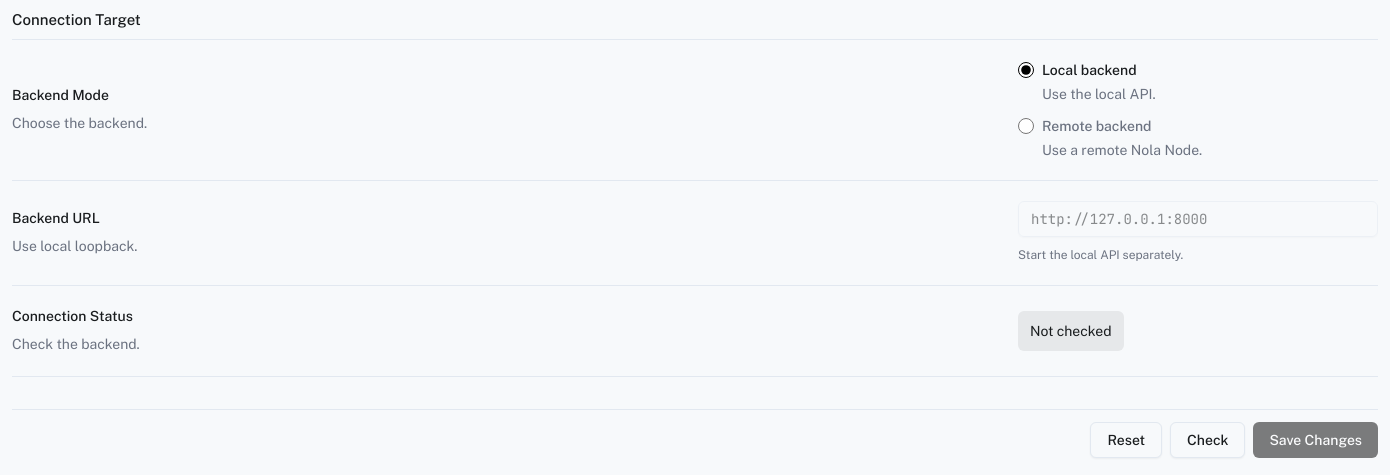
it: ConnectionTab › reports API unavailable when health passes but config fails
Click the button "Check" at [1208, 440], box [1170,422,1245,458]
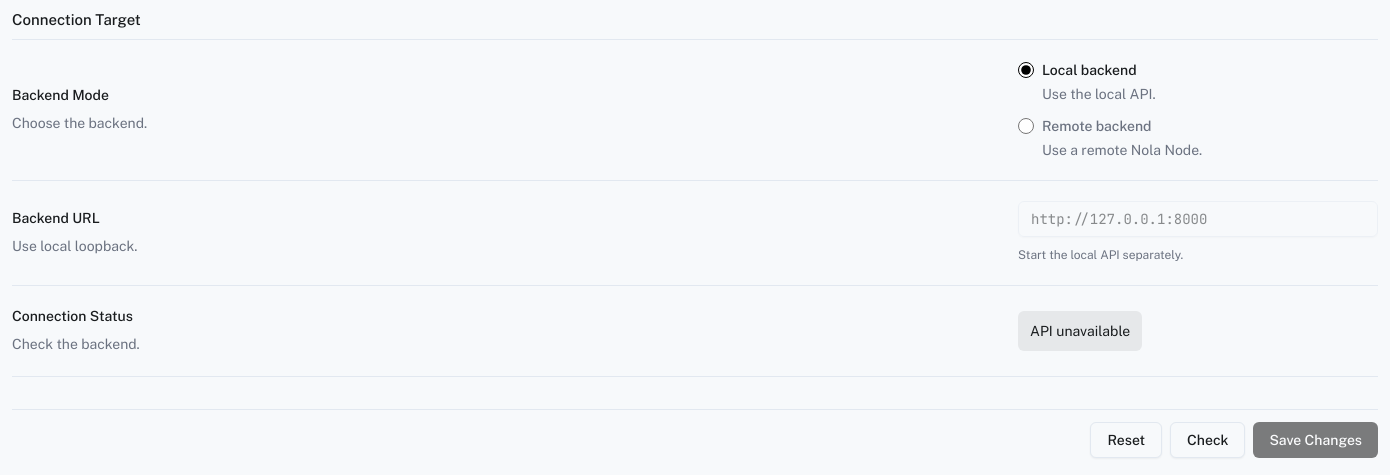
expect the text "API unavailable" is shown: met, box [1018,311,1142,351]
